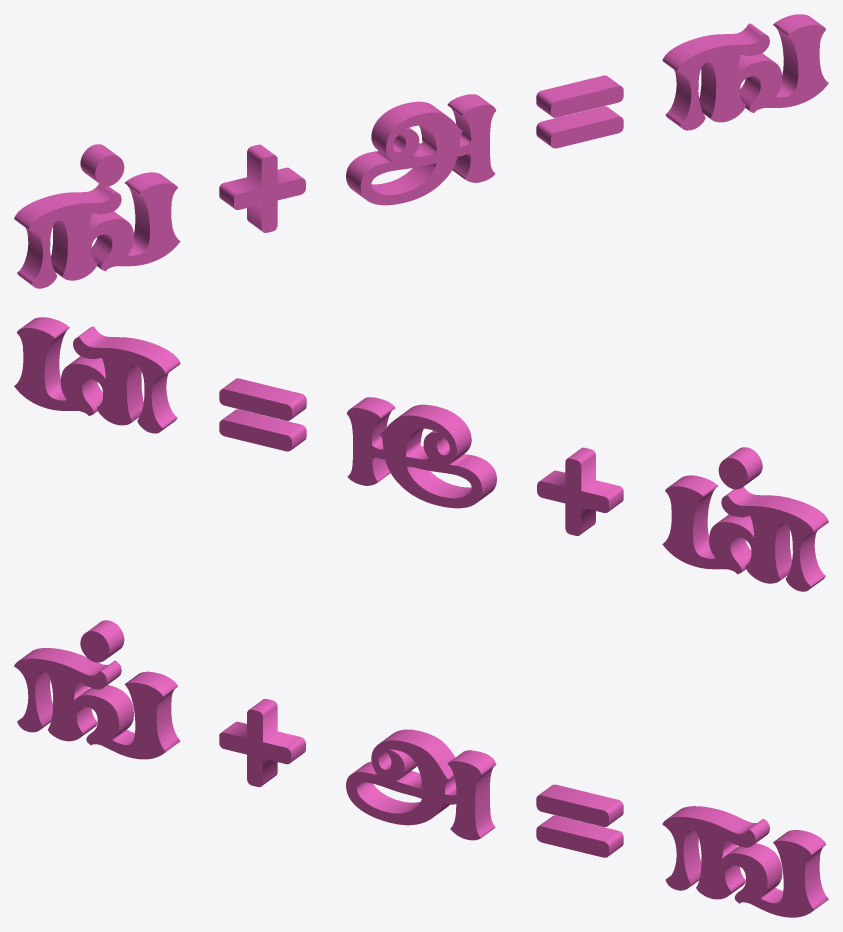
3 views of the same model, one above another, from view 1: azimuth 30°, elevation 25°; view 2: azimuth 150°, elevation 25°; view 3: azimuth 330°, elevation 25° (orthographic).
Parts seen in each view (by area): view 1: nga; view 2: nga; view 3: nga.
Part boxes in pixels (x1,y1,x2,y2): nga: (14,14,828,288); nga: (14,317,828,591); nga: (14,620,828,917).
Size of the model in its own units: 0.1886 by 0.0269 by 0.006.
